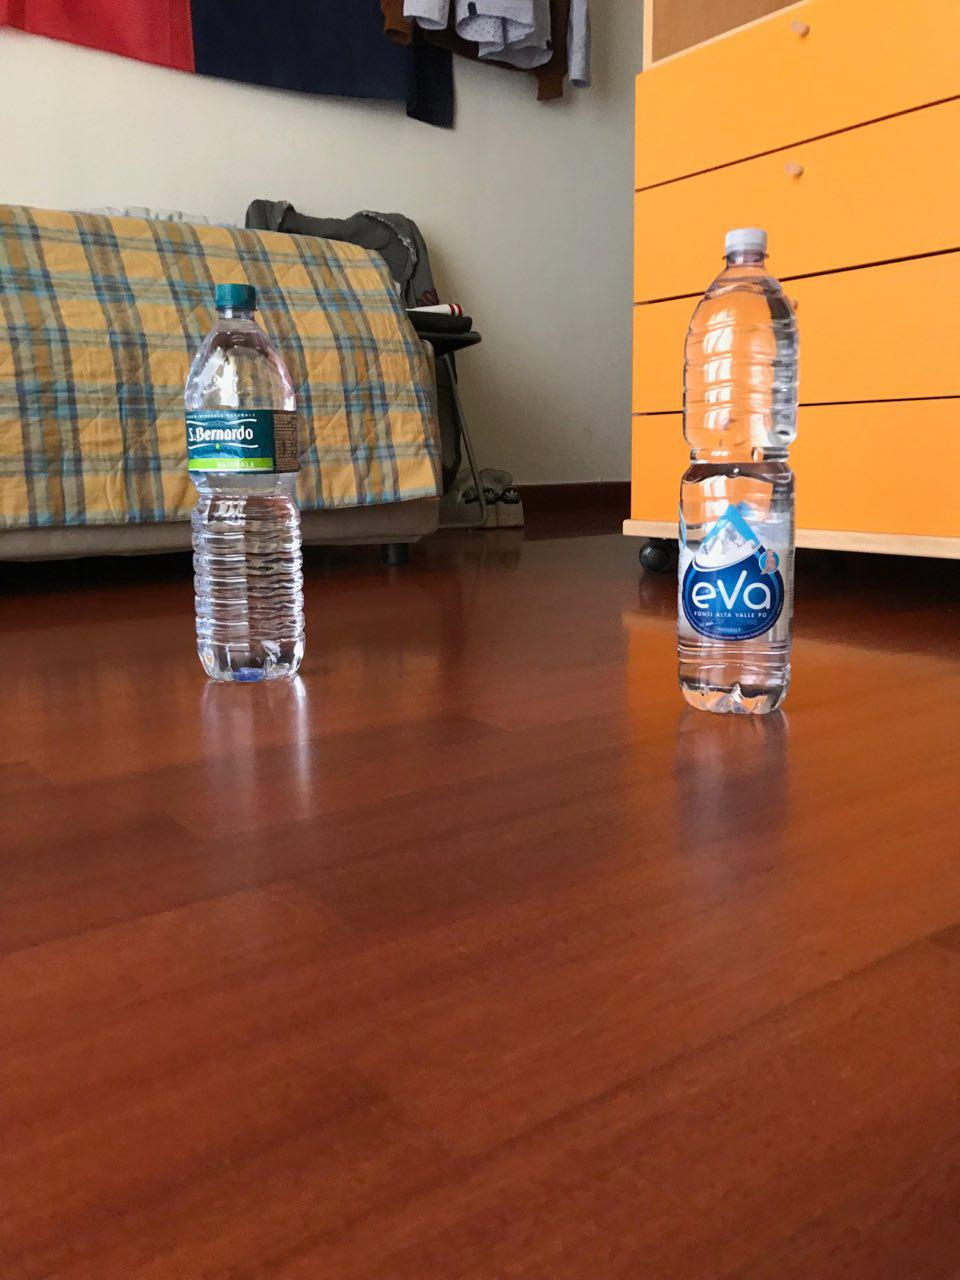san_bernardo: (183, 282, 308, 684)
